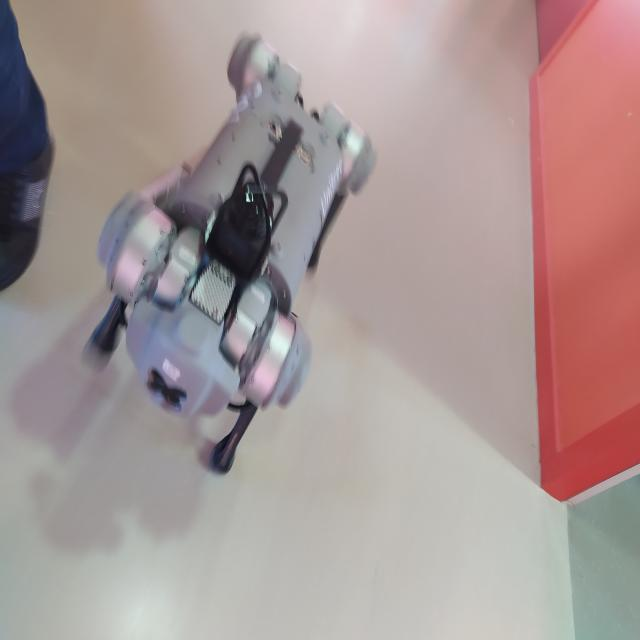unitree-go1-robot: (79, 27, 377, 499)
